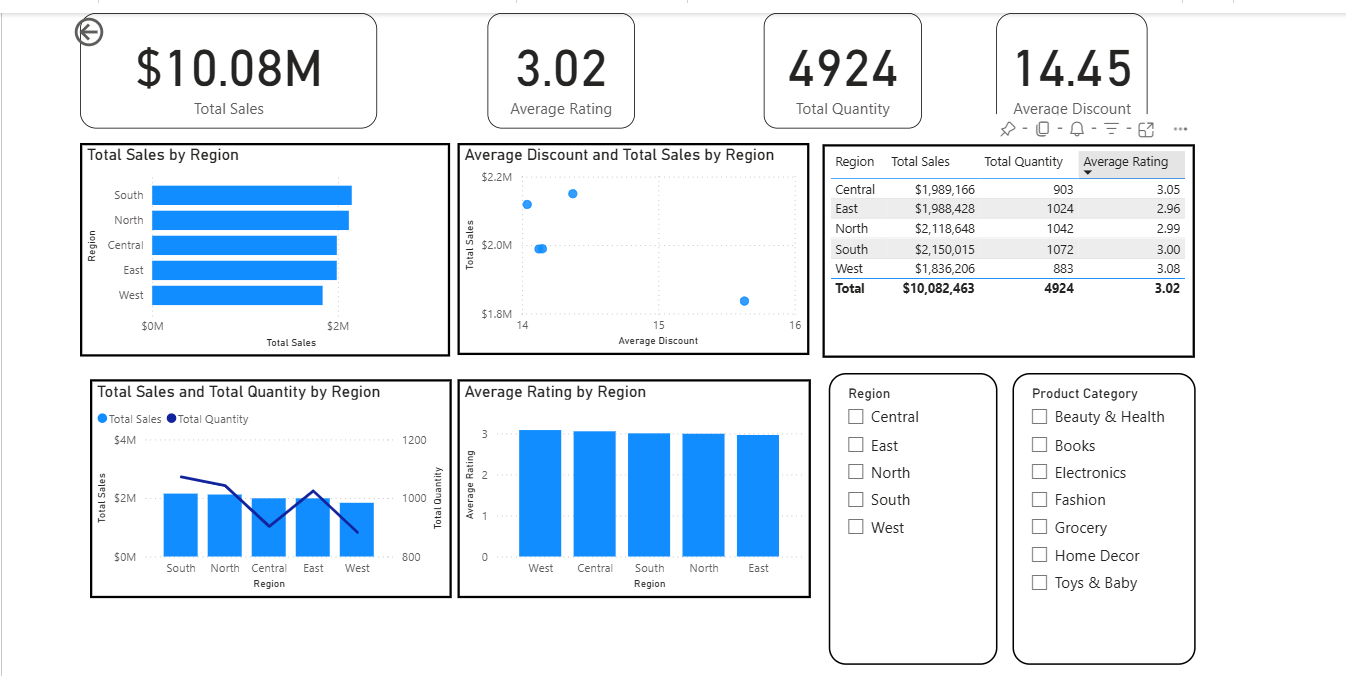

Layout of this report page (visuals, bound fields, positions):
{"tool":"powerbi","page":{"name":"Regional Analysis.","canvas":[1280,720],"ordinal":1},"visuals":[{"type":"card","fields":{"Values":["Sheet1.Total Sales"]},"box":[11.1,0,313.1,121.8],"z":0},{"type":"card","fields":{"Values":["Sheet1.Total Quantity"]},"box":[730.3,0,166.2,121.8],"z":1000},{"type":"card","fields":{"Values":["Sheet1.Average Discount"]},"box":[975.5,0,159.5,121.8],"z":2000},{"type":"card","fields":{"Values":["Sheet1.Average Rating"]},"box":[440.1,0,155.1,121.8],"z":3000},{"type":"clusteredBarChart","fields":{"Category":["Sheet1.Region"],"Y":["Sheet1.Total Sales"]},"box":[11.1,137.4,389.9,224.5],"z":4000},{"type":"lineClusteredColumnComboChart","fields":{"Y":["Sheet1.Total Sales"],"Y2":["Sheet1.Total Quantity"],"Category":["Sheet1.Region"]},"box":[20.8,384.9,381.2,230.2],"z":5000},{"type":"clusteredColumnChart","fields":{"Y":["Sheet1.Average Rating"],"Category":["Sheet1.Region"]},"box":[407.6,384.9,371.7,230.2],"z":6000},{"type":"scatterChart","fields":{"X":["Sheet1.Average Discount"],"Y":["Sheet1.Total Sales"],"Category":["Sheet1.Region"]},"box":[408.4,137.4,370.7,223],"z":7000},{"type":"tableEx","fields":{"Values":["Sheet1.Region","Sheet1.Total Sales","Sheet1.Total Quantity","Sheet1.Average Rating"]},"box":[792.7,137.7,392.4,224.7],"z":8000},{"type":"actionButton","box":[0,0,100,40],"z":9000},{"type":"slicer","fields":{"Values":["Sheet1.Region"]},"box":[798.2,379.3,177.4,307.6],"z":10000},{"type":"slicer","fields":{"Values":["Sheet1.Product Category"]},"box":[992.5,379.3,192.5,307.6],"z":11000}]}

Visuals, with their boxes in screenshot pixels (x1, y1, x2, y2):
card - Sheet1.Total Sales: <bbox>87, 18, 378, 130</bbox>
card - Sheet1.Total Quantity: <bbox>754, 18, 908, 130</bbox>
card - Sheet1.Average Discount: <bbox>981, 18, 1129, 130</bbox>
card - Sheet1.Average Rating: <bbox>485, 18, 629, 130</bbox>
clusteredBarChart - Sheet1.Region x Sheet1.Total Sales: <bbox>87, 145, 449, 353</bbox>
lineClusteredColumnComboChart - Sheet1.Total Sales x Sheet1.Total Quantity: <bbox>96, 374, 450, 587</bbox>
clusteredColumnChart - Sheet1.Average Rating x Sheet1.Region: <bbox>455, 374, 799, 587</bbox>
scatterChart - Sheet1.Average Discount x Sheet1.Total Sales: <bbox>456, 145, 799, 351</bbox>
tableEx - Sheet1.Region x Sheet1.Total Sales: <bbox>812, 145, 1175, 353</bbox>
actionButton: <bbox>77, 18, 170, 55</bbox>
slicer - Sheet1.Region: <bbox>817, 369, 981, 654</bbox>
slicer - Sheet1.Product Category: <bbox>997, 369, 1175, 654</bbox>
